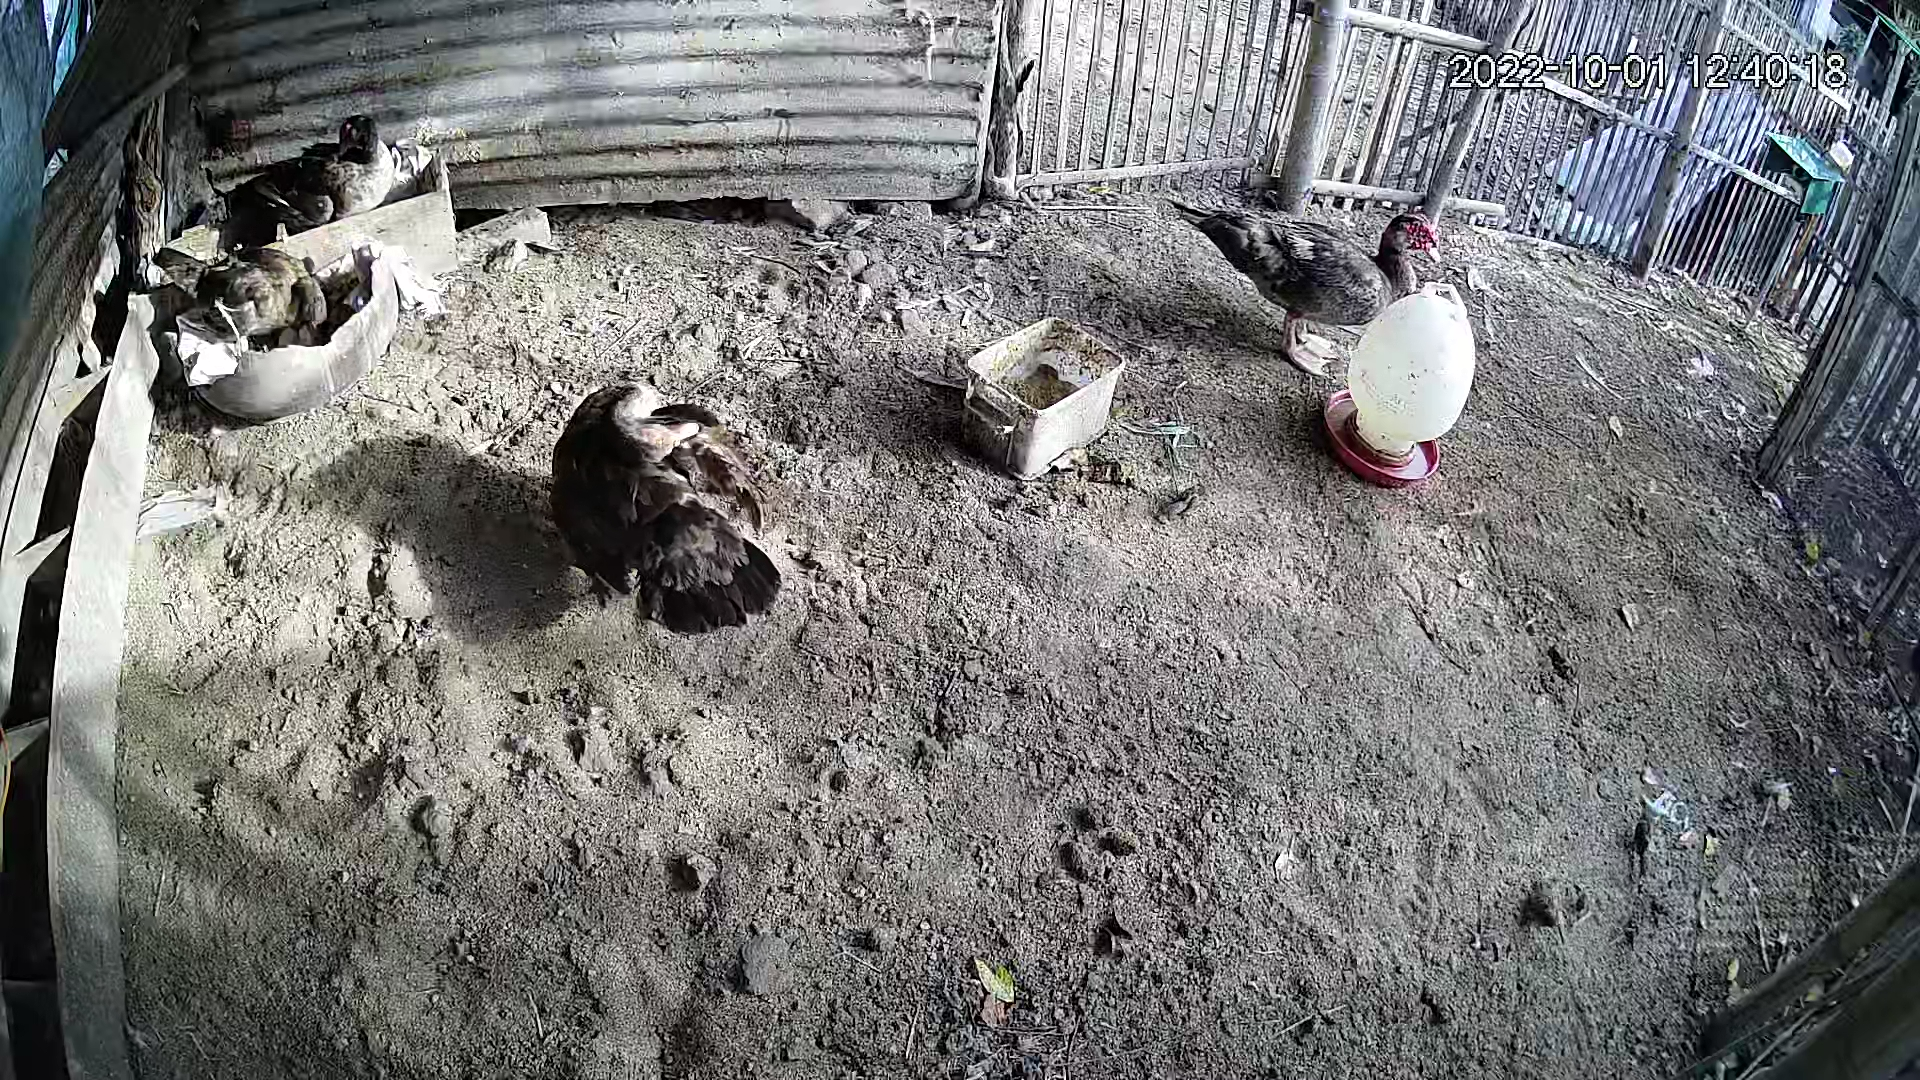Mengeram: (135, 92, 463, 418)
